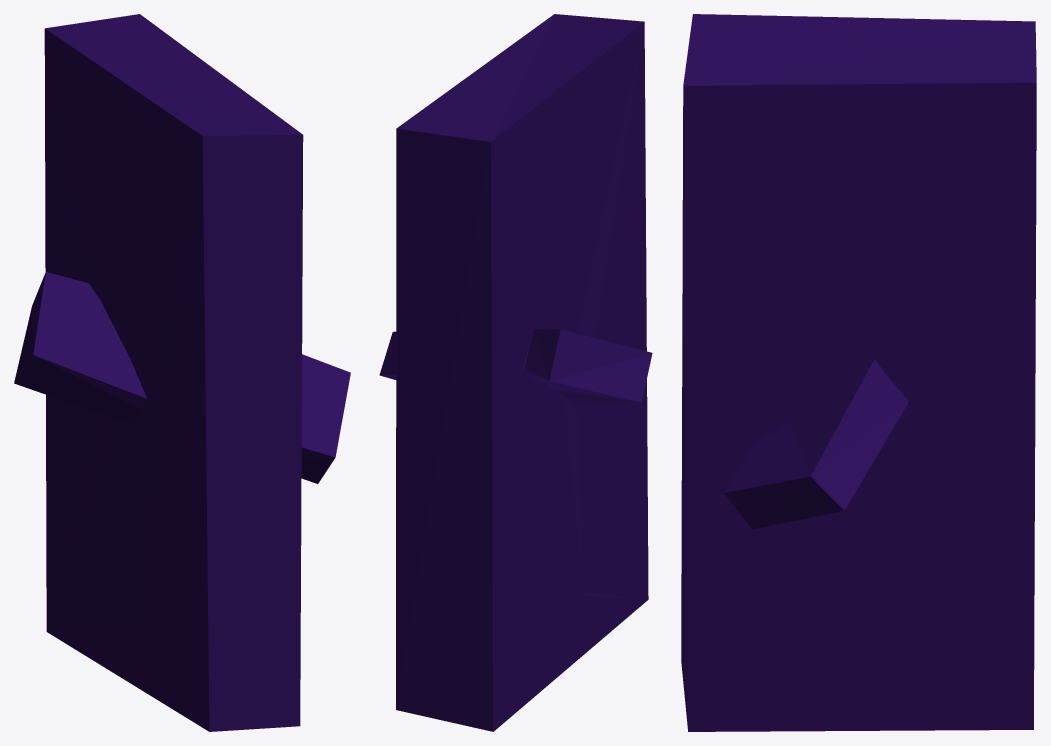
3 renders of one model, left to right at view 1: azimuth 30°, elevation 25°; view 2: azimuth 150°, elevation 25°; view 3: azimuth 270°, elevation 25°, orthographic. The views are drawn at different scales.
Parts seen in each view (by area): view 1: 711_Cube.2859; view 2: 711_Cube.2859; view 3: 711_Cube.2859.
Part boxes in pixels (x1,y1,x2,y2): 711_Cube.2859: (14,14,350,731); 711_Cube.2859: (379,14,652,731); 711_Cube.2859: (681,14,1036,731).
Bounding box in the file's own units: 6.29 × 12.46 × 6.02.
